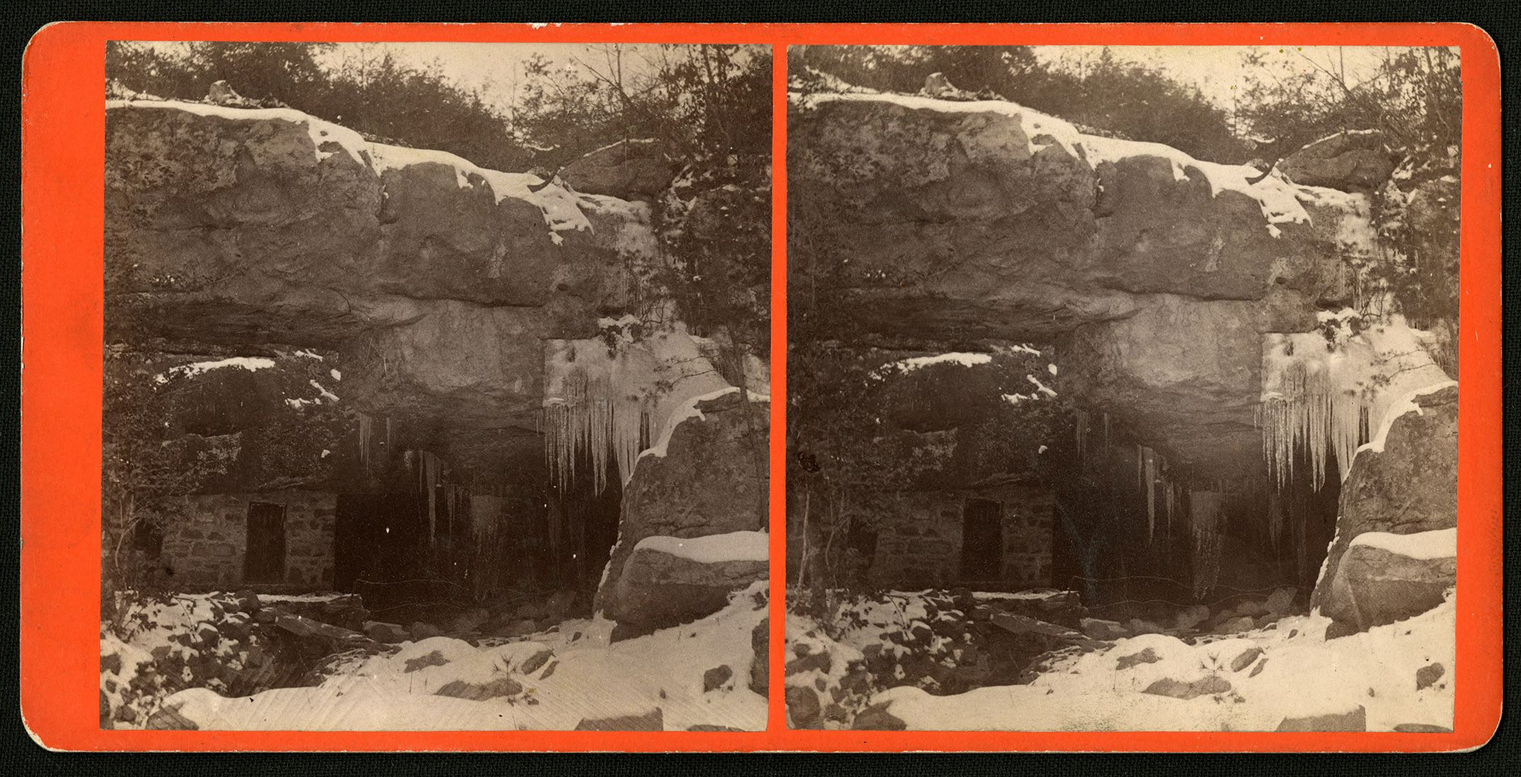half_image: (785, 44, 1460, 735), (100, 42, 773, 731)
